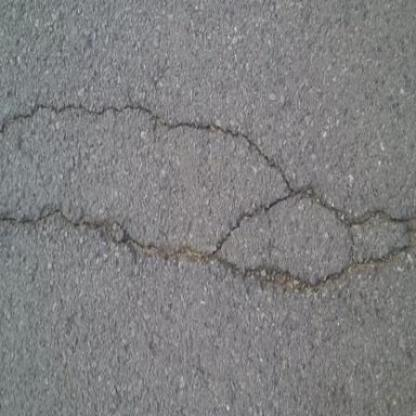Cracks: (0, 78, 294, 179), (215, 184, 416, 304), (0, 200, 214, 281)
